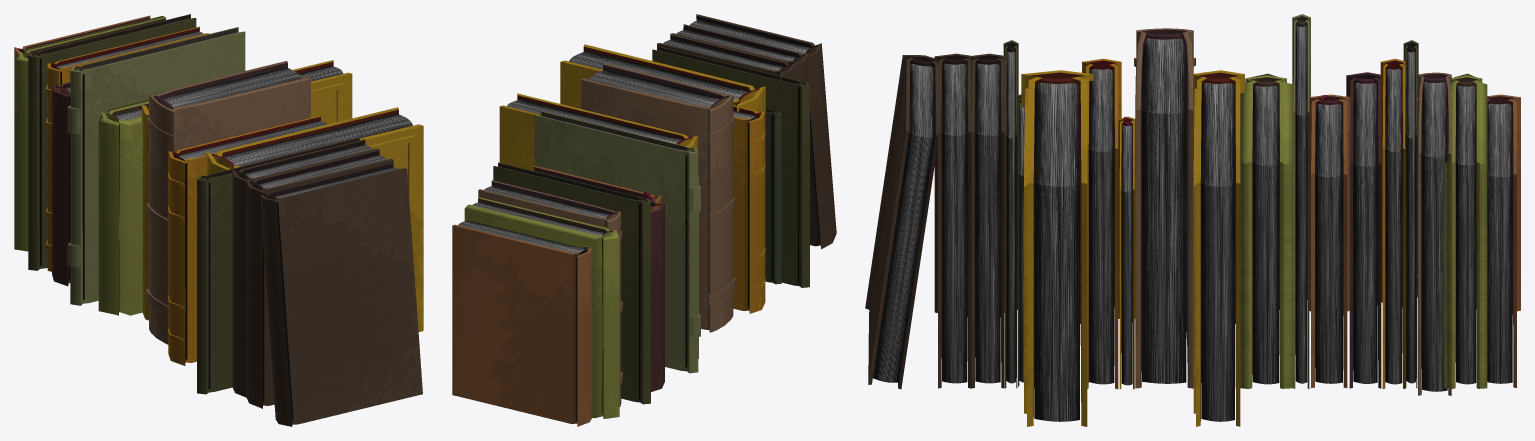
Rendered from Shelf8.fbx.
The picture shows the model from 3 angles, left to right: view 1: azimuth 30°, elevation 25°; view 2: azimuth 150°, elevation 25°; view 3: azimuth 270°, elevation 25°; orthographic projection. The views are drawn at different scales.
Visible parts, largest first — view 1: pCube68 (×3), pCube67 (×2), pCube14, pCube11 (×2), pCube71, pCube15 (×2), pCube12 (×2), pCube69, pages8 (×3), pages14 (×2), pages11 (×2), pages13 (+4 smaller); view 2: pCube72 (×2), pCube67 (×2), pCube71 (×2), pCube14, pCube11, pCube68 (×3), pCube15, pCube12 (×2), pages14 (×2), pages8 (×3), pCube66, pCube69 (+7 smaller); view 3: pages14 (×2), pages8 (×3), pages13 (×2), pCube11 (×2), pages17 (×2), pages15 (×2), pCube68 (×3), pages11 (×2), pCube12 (×2), pCube71 (×2), pages9, pCube72 (×2) (+10 smaller).
Part boxes in pixels (<box>): pCube68 (×3): <box>232,139,422,426</box>; pCube67 (×2): <box>28,14,359,394</box>; pCube14: <box>67,27,245,305</box>; pCube11 (×2): <box>14,16,165,315</box>; pCube71: <box>146,61,310,344</box>; pCube15 (×2): <box>46,26,320,365</box>; pCube12 (×2): <box>141,60,423,331</box>; pCube69: <box>52,82,70,286</box>; pages8 (×3): <box>244,144,398,420</box>; pages14 (×2): <box>223,66,412,166</box>; pages11 (×2): <box>52,31,327,359</box>; pages13: <box>163,67,301,107</box>; pCube72 (×2): <box>452,165,661,426</box>; pCube67 (×2): <box>493,46,809,404</box>; pCube71 (×2): <box>478,63,736,406</box>; pCube14: <box>534,111,700,373</box>; pCube11: <box>464,197,619,418</box>; pCube68 (×3): <box>657,14,836,249</box>; pCube15: <box>733,105,765,313</box>; pCube12 (×2): <box>499,44,765,170</box>; pages14 (×2): <box>507,51,748,143</box>; pages8 (×3): <box>663,19,820,241</box>; pCube66: <box>764,108,781,284</box>; pCube69: <box>650,200,664,391</box>; pages14 (×2): <box>1034,82,1234,421</box>; pages8 (×3): <box>873,63,1000,383</box>; pages13 (×2): <box>1142,38,1447,391</box>; pCube11 (×2): <box>1240,73,1487,388</box>; pages17 (×2): <box>1315,103,1512,383</box>; pages15 (×2): <box>1252,86,1476,384</box>; pCube68 (×3): <box>865,53,1007,389</box>; pages11 (×2): <box>1089,69,1402,384</box>; pCube12 (×2): <box>1021,70,1244,426</box>; pCube71 (×2): <box>1134,28,1451,395</box>; pages9: <box>1353,82,1377,383</box>; pCube72 (×2): <box>1309,94,1520,388</box>.
Size of the model in its own units: 1.09 by 1.07 by 2.17.
